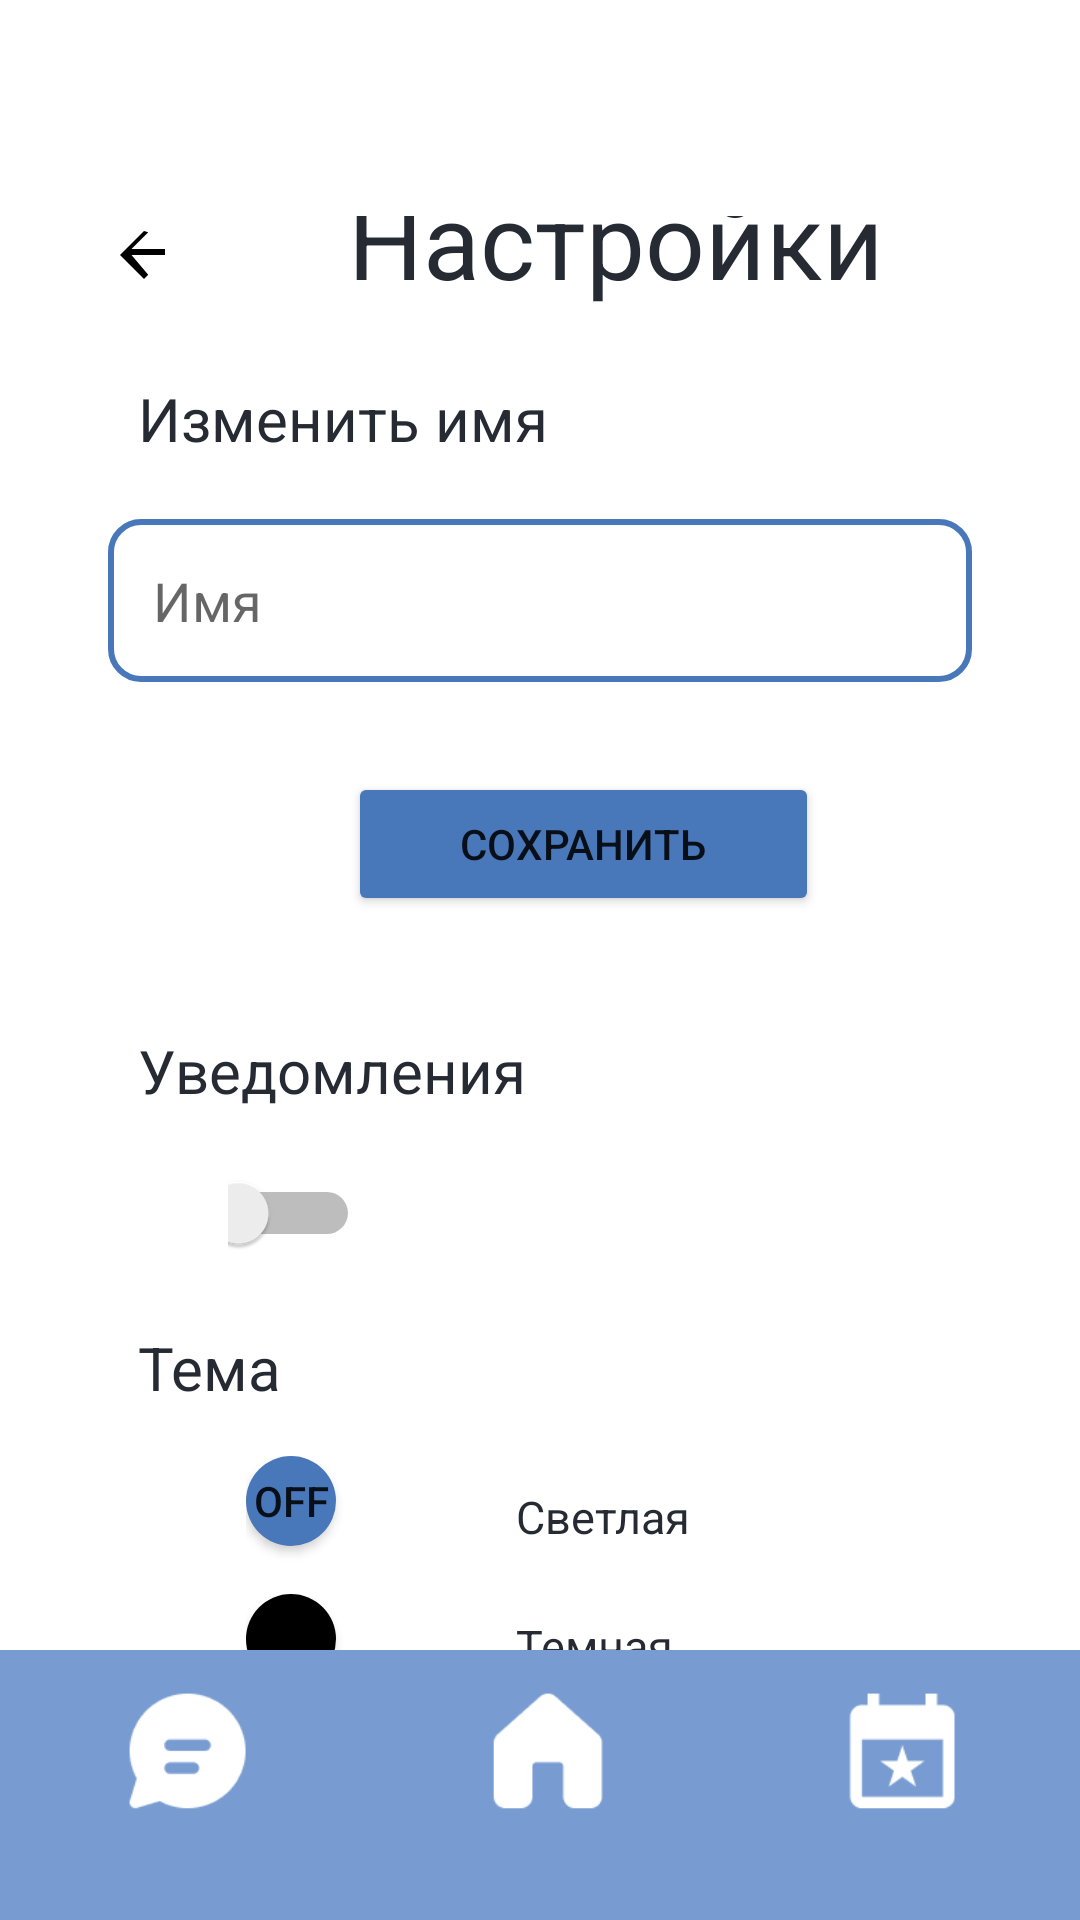

Locate icon controls on the screen. Image size 1080 × 1920, boxes as (x1, y1, x2, y2).
Назад: (120, 231, 165, 279)
